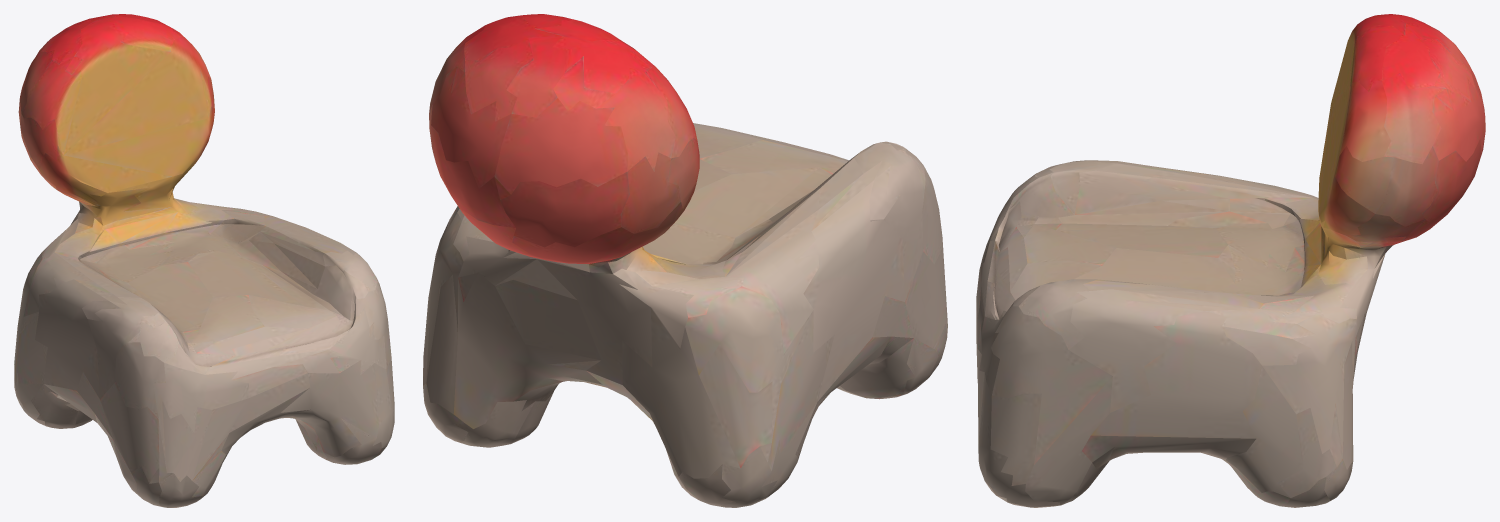
File: chair.1eac0b65.glb
3 views of the same model, side by side, from view 1: azimuth 30°, elevation 25°; view 2: azimuth 150°, elevation 25°; view 3: azimuth 270°, elevation 25° (orthographic). The views are drawn at different scales.
Parts seen in each view (by area): view 1: output_unwrapped; view 2: output_unwrapped; view 3: output_unwrapped.
Part boxes in pixels (x1,y1,x2,y2): output_unwrapped: (14,14,394,507); output_unwrapped: (423,14,947,507); output_unwrapped: (976,14,1485,507).
Bounding box in the file's own units: 1.38 × 1.72 × 1.9.
1 material, 1 textured.
